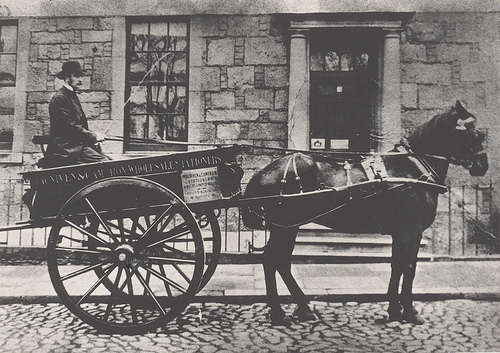horse: (240, 99, 489, 327)
